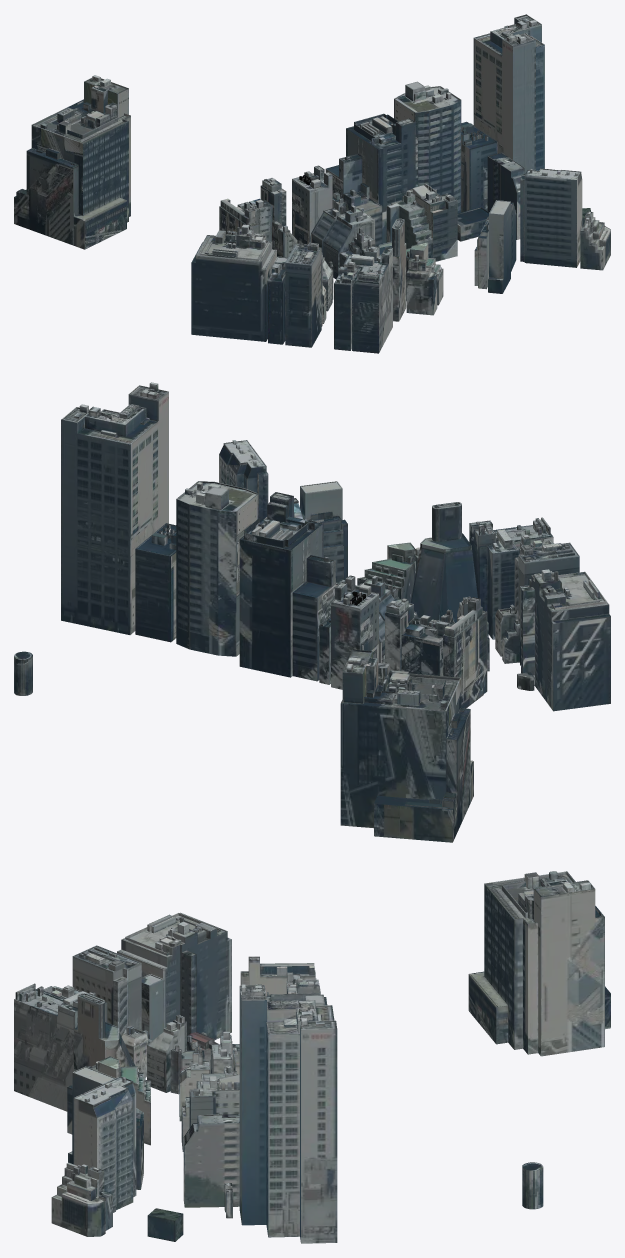
Rendered from data499.glb.
The picture shows the model from 3 angles, top to bottom: view 1: azimuth 30°, elevation 25°; view 2: azimuth 150°, elevation 25°; view 3: azimuth 270°, elevation 25°; orthographic projection. The views are drawn at different scales.
Size of the model in its own units: 204 by 90.26 by 194.
Materials: 2 (1 with a texture image).
